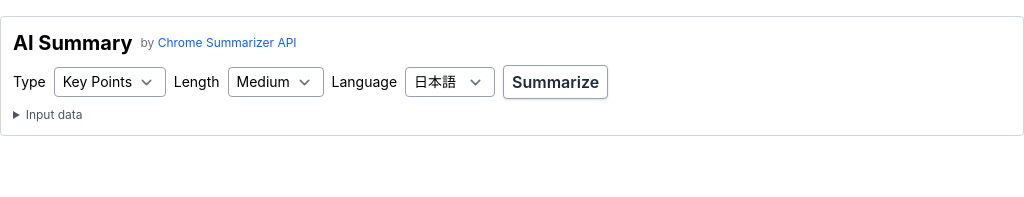
Scenario: ActivitySummary › ボタンをクリックすると要約結果を表示する
Click the button "Summarize" at (556, 82), box [503, 65, 608, 99]
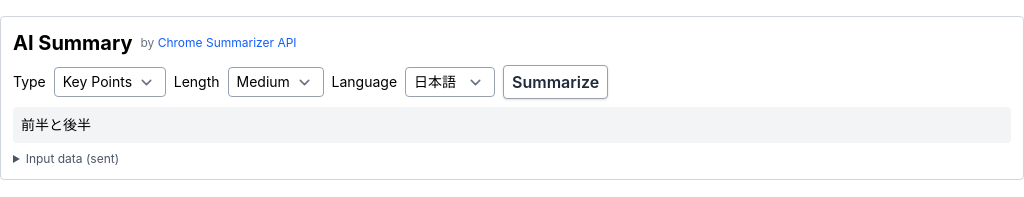
expect the text with test id "summary-output" reads "前半と後半": met, box [21, 116, 91, 133]
